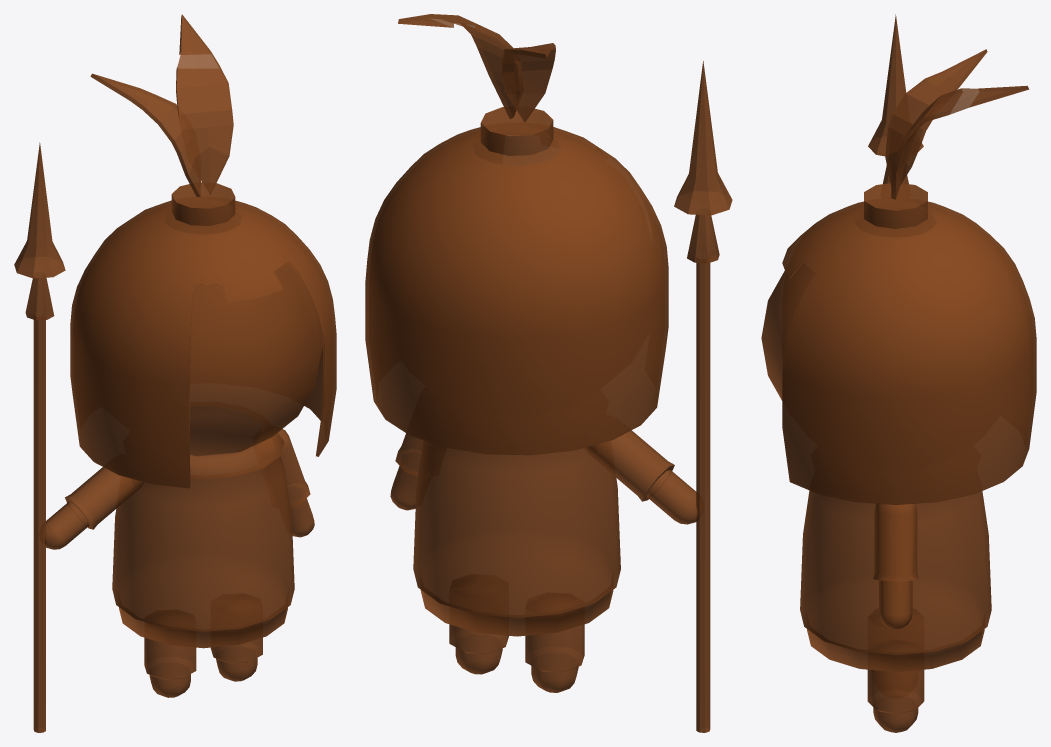
File: M_FakePlayer_Red_.fbx
The picture shows the model from 3 angles, left to right: view 1: azimuth 30°, elevation 25°; view 2: azimuth 150°, elevation 25°; view 3: azimuth 270°, elevation 25°; orthographic projection. The views are drawn at different scales.
Parts seen in each view (by area): view 1: M_Arm_Right4; view 2: M_Arm_Right4; view 3: M_Arm_Right4.
Part boxes in pixels (x1,y1,x2,y2): M_Arm_Right4: (14, 14, 336, 732); M_Arm_Right4: (365, 14, 732, 732); M_Arm_Right4: (761, 14, 1036, 732).
Size of the model in its own units: 54.61 by 107 by 40.92.
